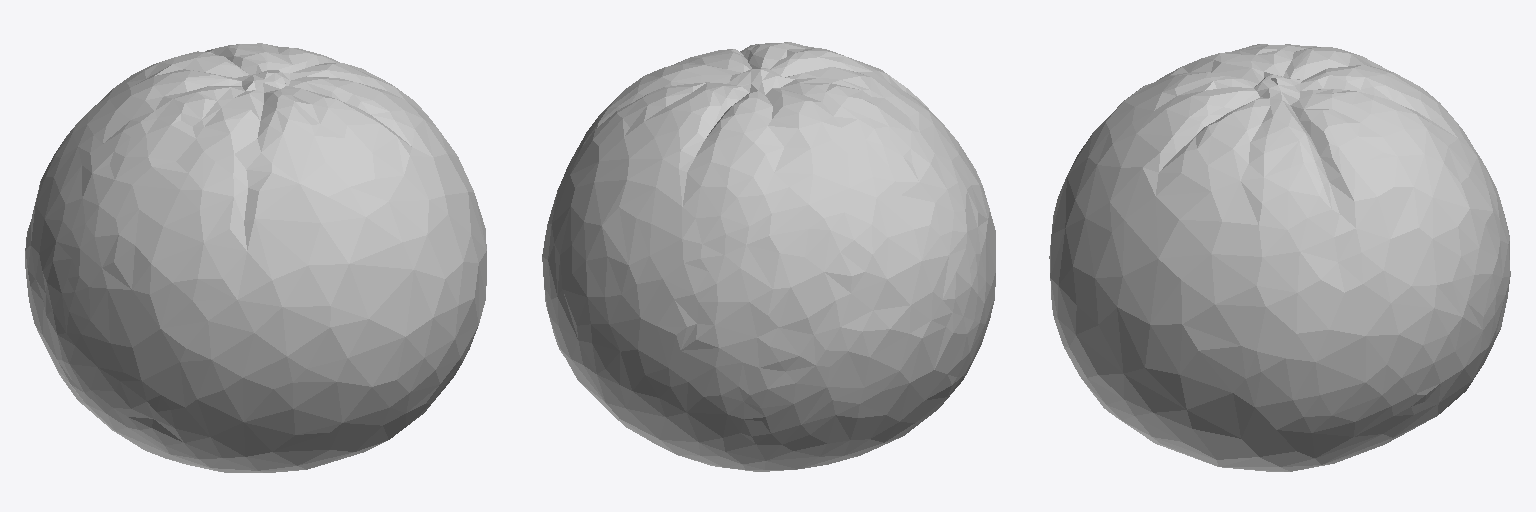
The model's file is orange8.obj.
3 renders of one model, left to right at view 1: azimuth 30°, elevation 25°; view 2: azimuth 150°, elevation 25°; view 3: azimuth 270°, elevation 25°, orthographic.
Parts seen in each view (by area): view 1: Orange7; view 2: Orange7; view 3: Orange7.
Part boxes in pixels (x1,y1,x2,y2): Orange7: (25, 43, 486, 472); Orange7: (542, 42, 995, 471); Orange7: (1049, 44, 1510, 471).
Bounding box in the file's own units: 2.48 × 2.17 × 2.48.